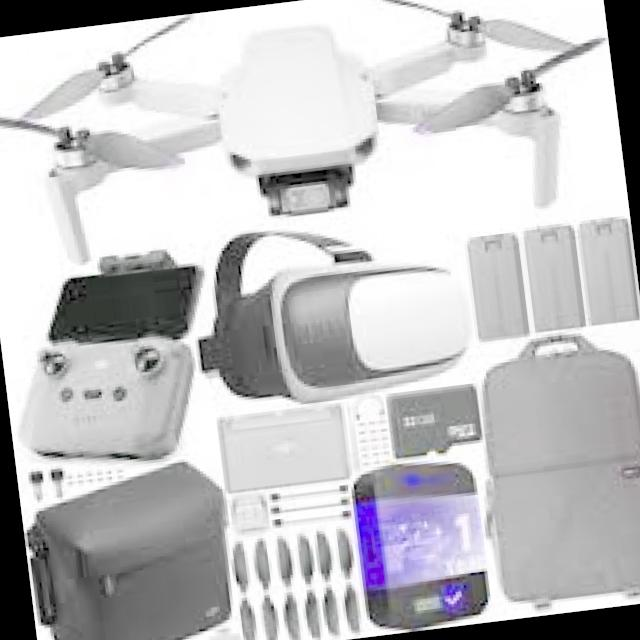drone: (0, 0, 628, 281)
